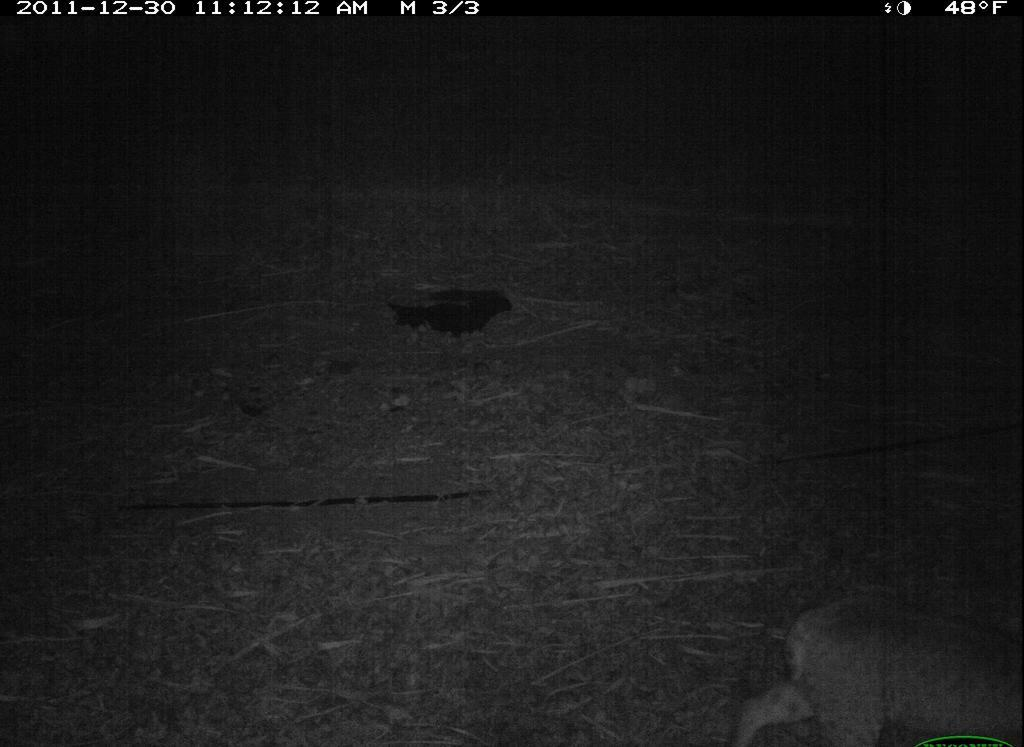bobcat: (730, 571, 1022, 745)
